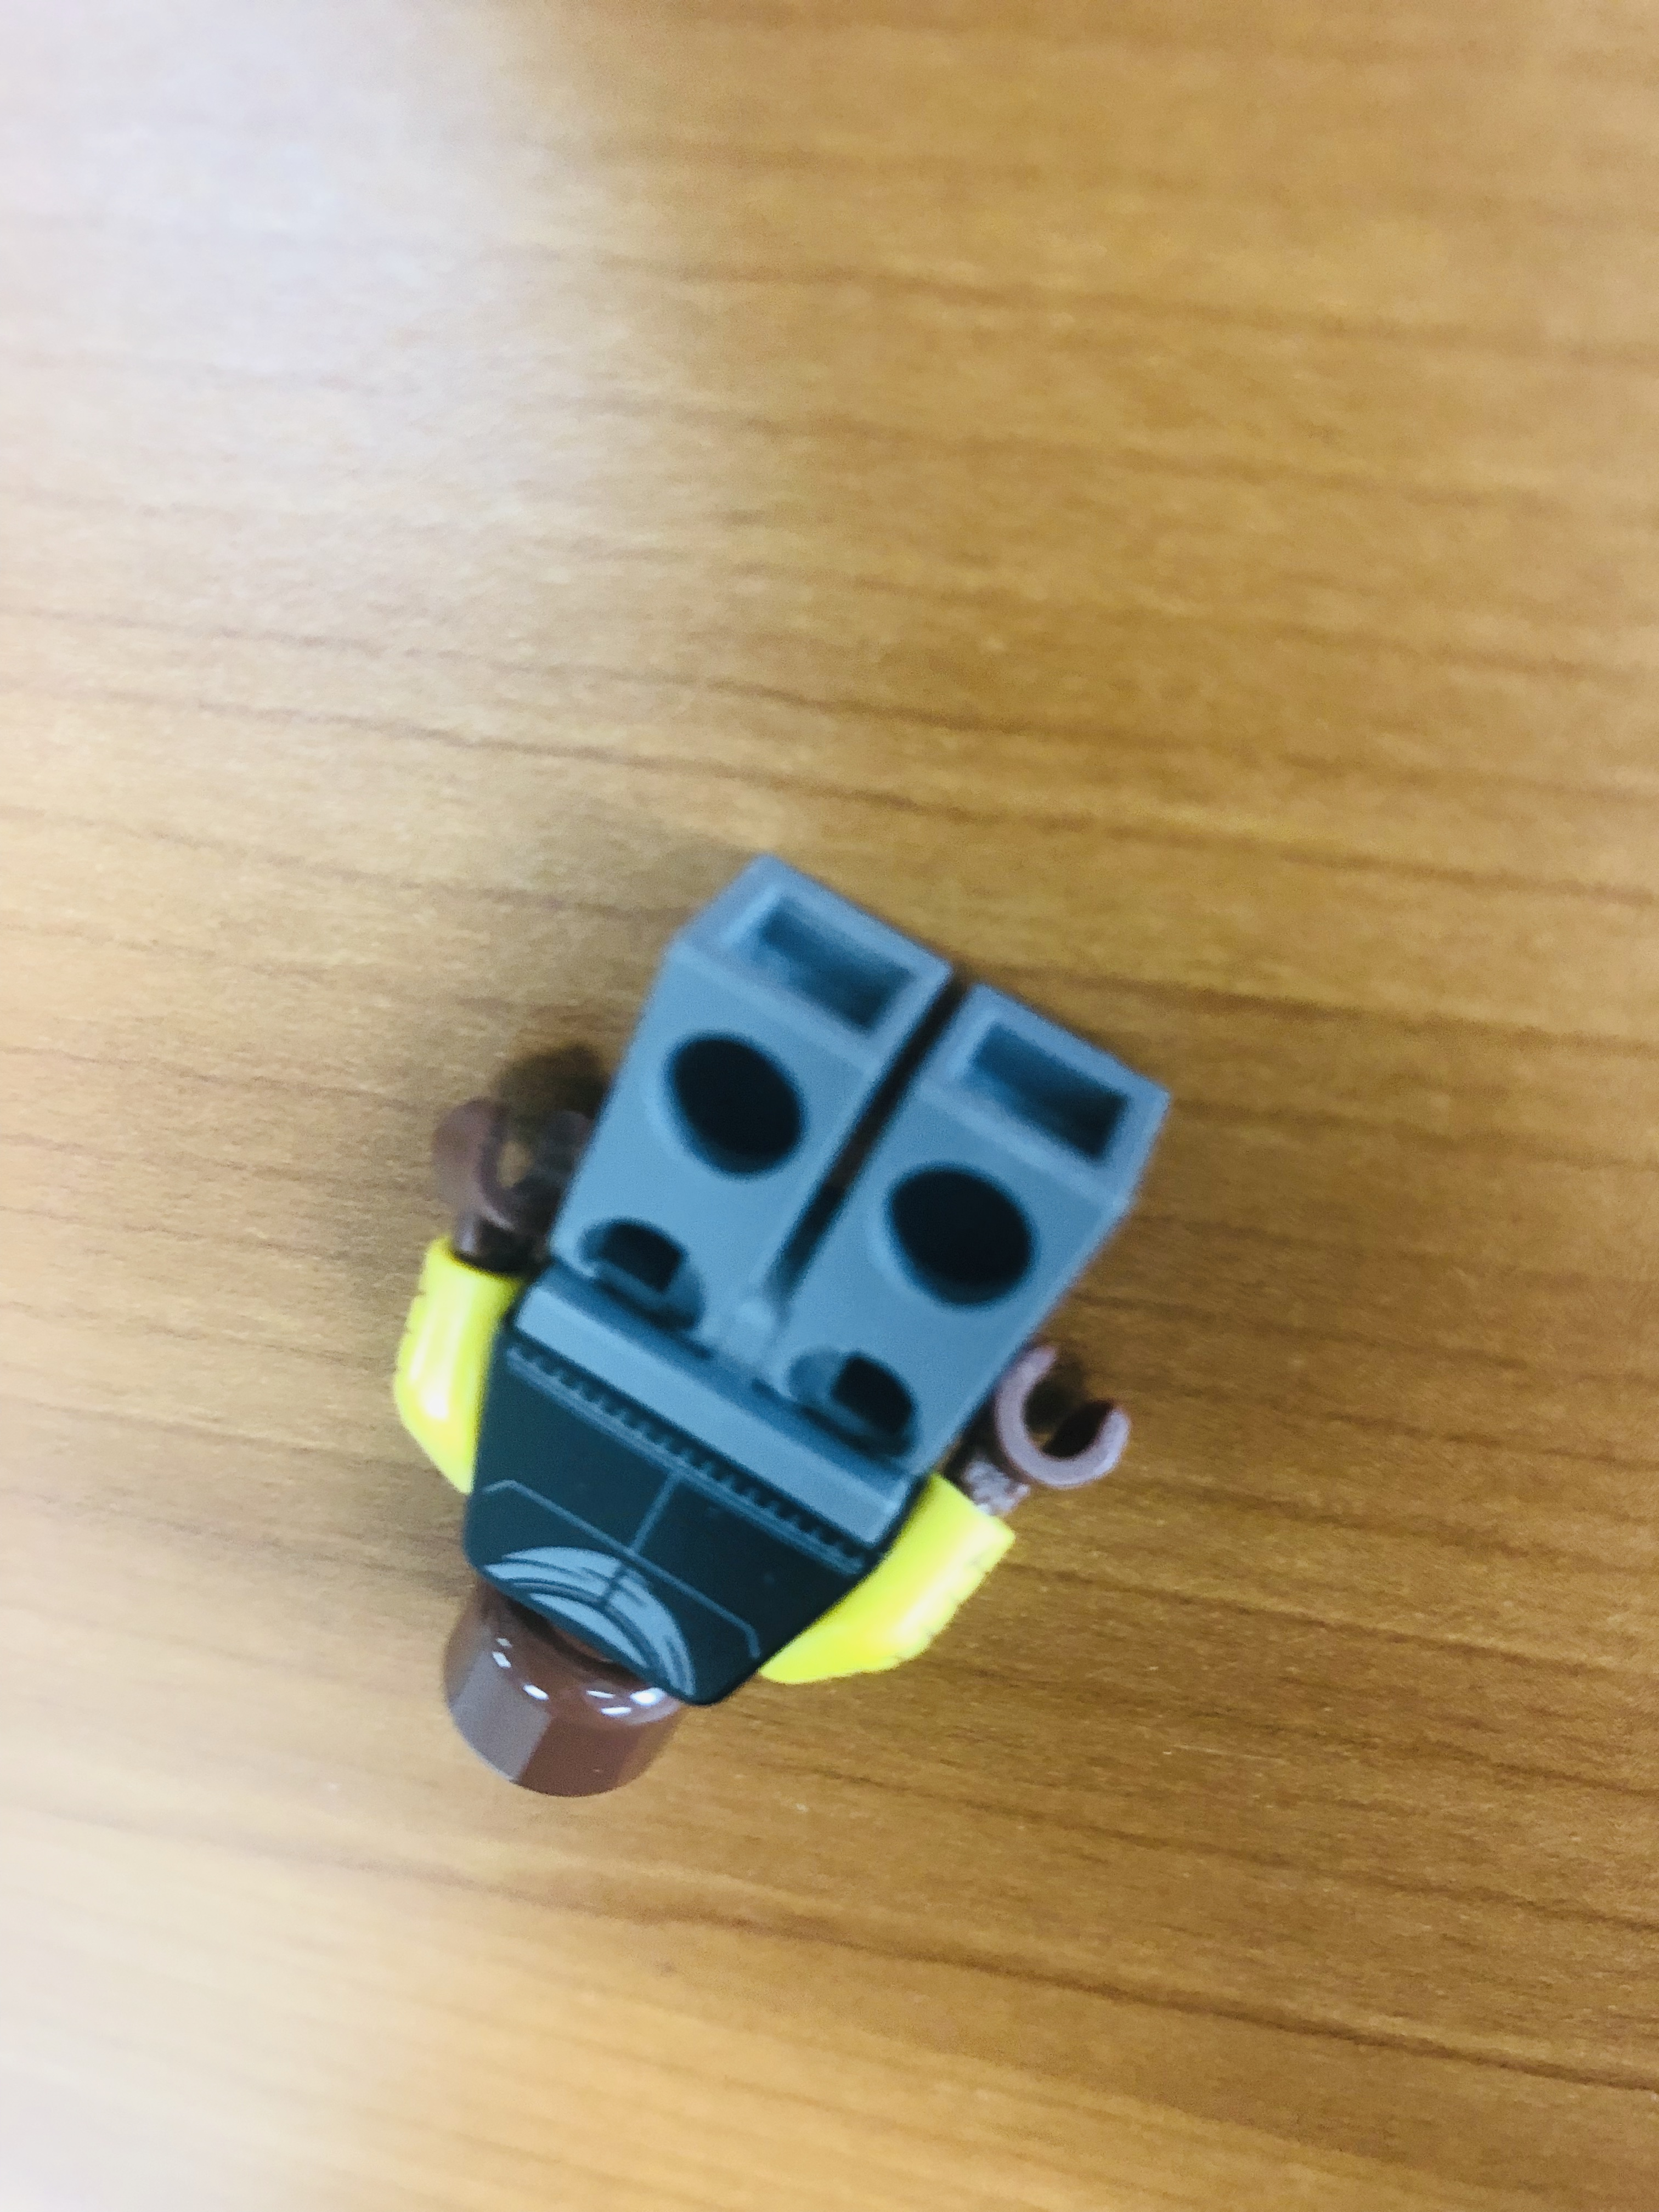people: (359, 834, 1149, 1812)
